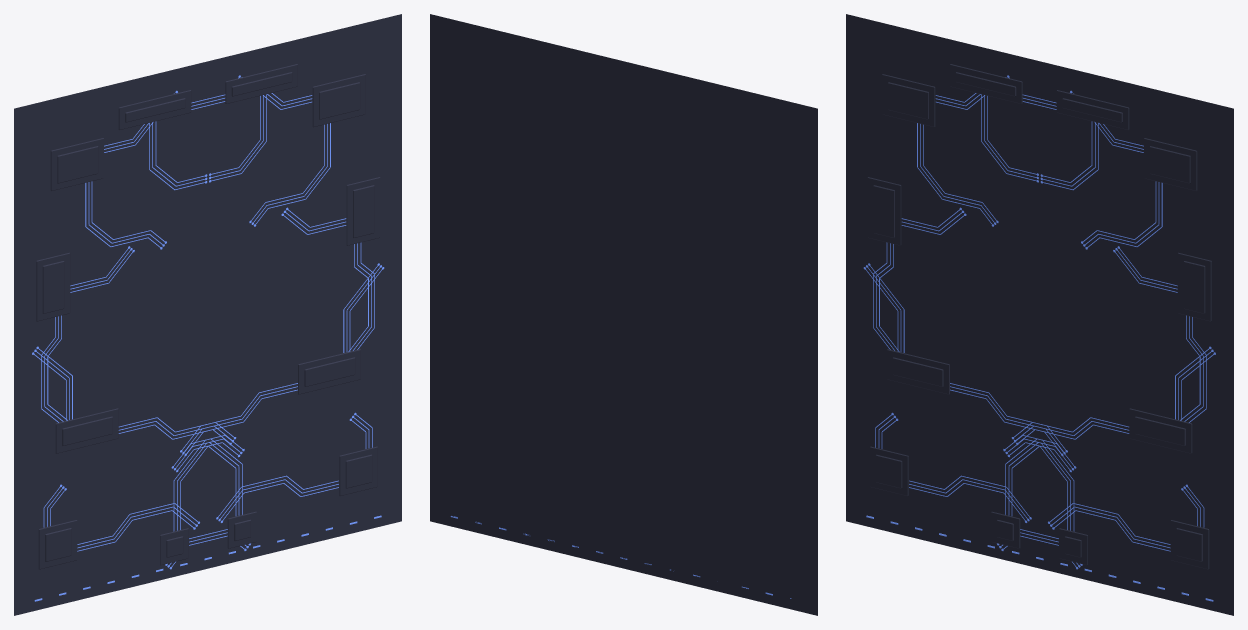
File: backdrop.glb
The picture shows the model from 3 angles, left to right: view 1: azimuth 30°, elevation 25°; view 2: azimuth 150°, elevation 25°; view 3: azimuth 330°, elevation 25°; orthographic projection.
Visible parts, largest first — view 1: backdrop; view 2: backdrop; view 3: backdrop.
Part boxes in pixels (x1,y1,x2,y2): backdrop: [14, 14, 401, 615]; backdrop: [430, 14, 817, 615]; backdrop: [846, 14, 1233, 615].
Size of the model in its own units: 16 by 20 by 0.08.
